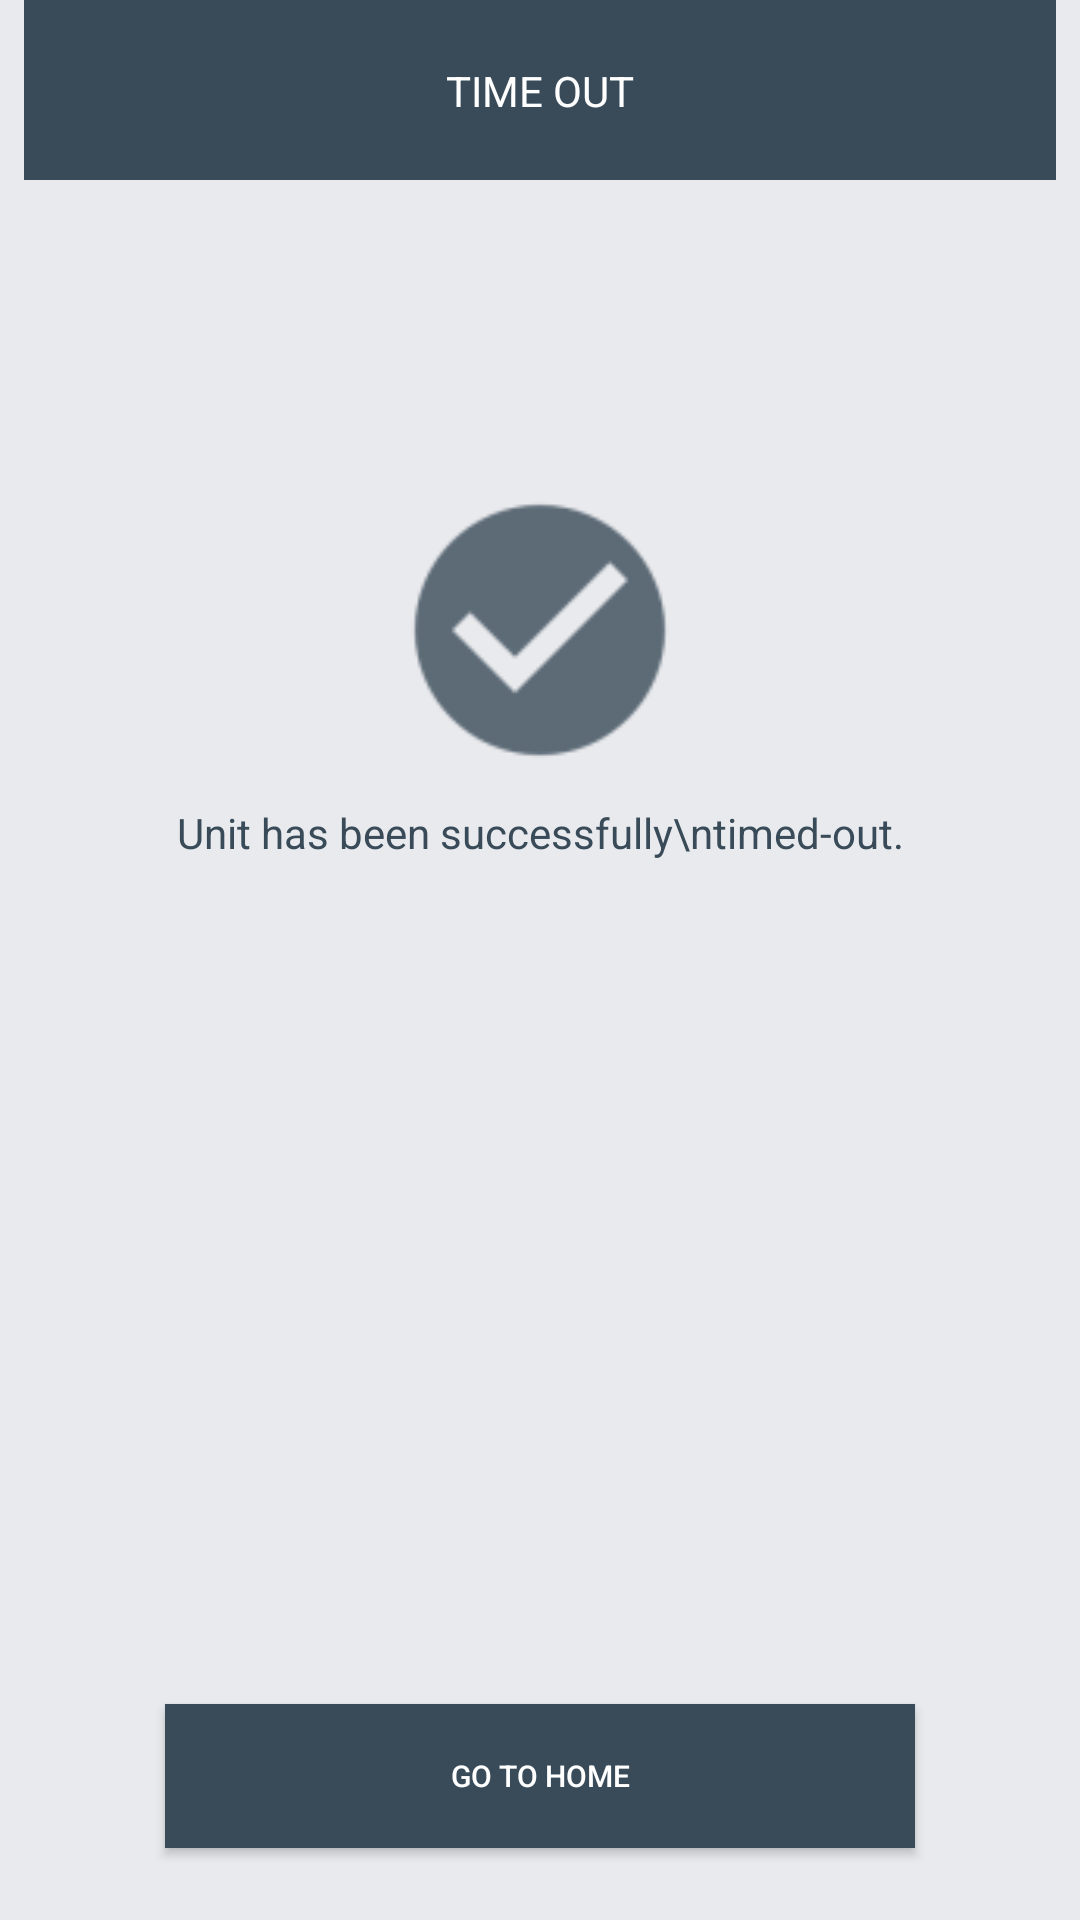

Icons on this 1080 x 1920 Android screen, each with its box as (x1, y1, x2, y2):
check: (414, 504, 666, 756)
